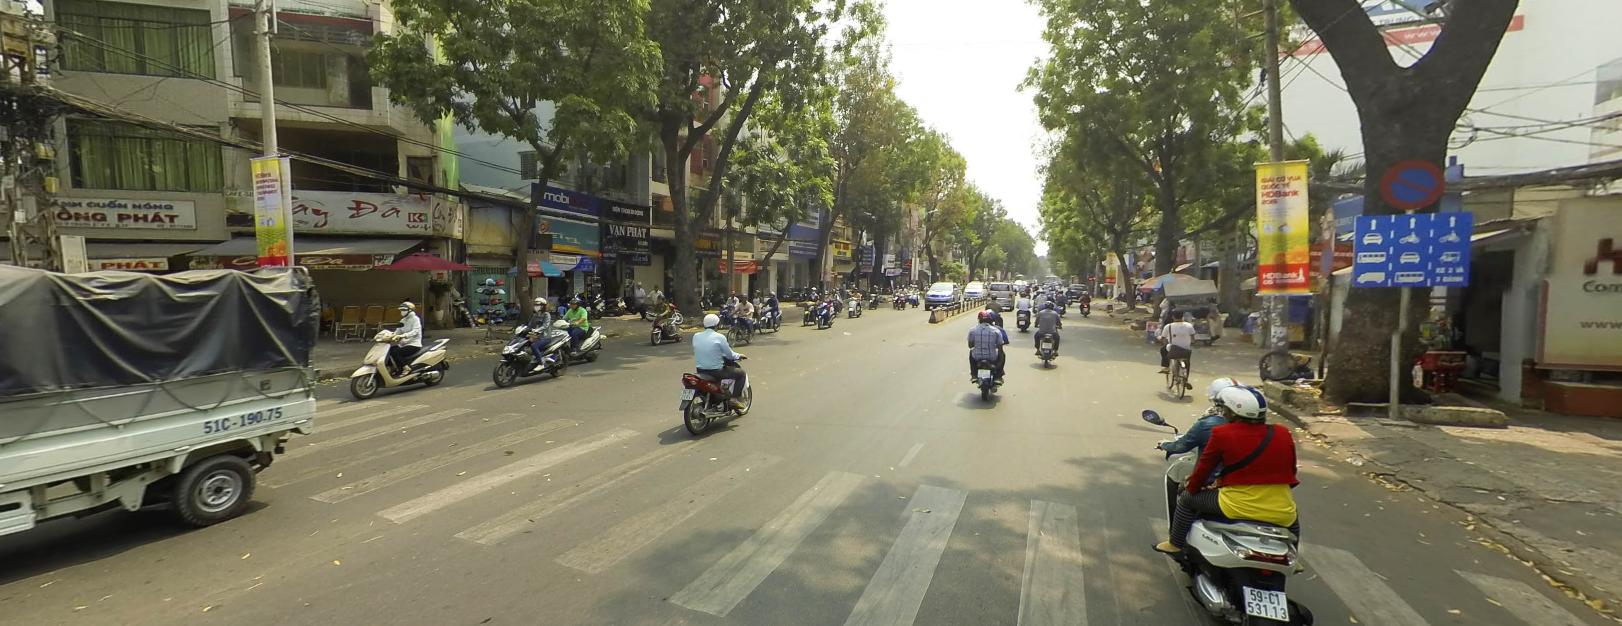Cam dung va do: (1378, 158, 1446, 209), (1382, 160, 1443, 208), (1381, 158, 1443, 205), (1321, 245, 1332, 275)
